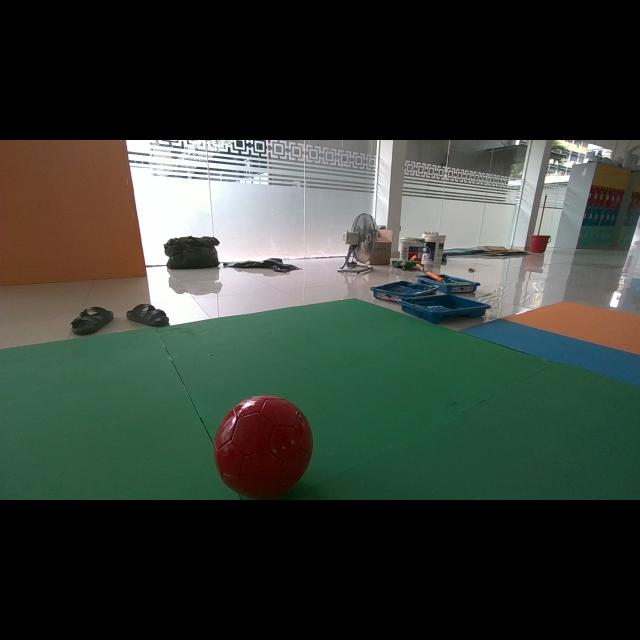R: (214, 395, 312, 499)
